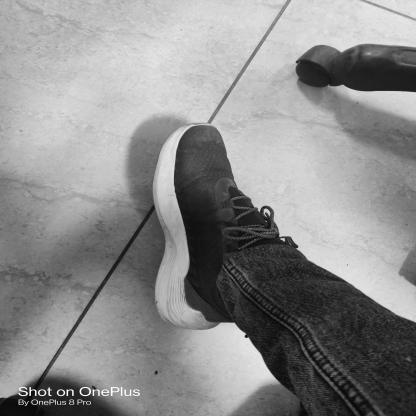ankle: (217, 271, 226, 275)
heel: (189, 322, 196, 329)
pinky: (217, 137, 222, 141)
right_foot: (153, 125, 284, 332)
toe: (178, 132, 185, 138)
